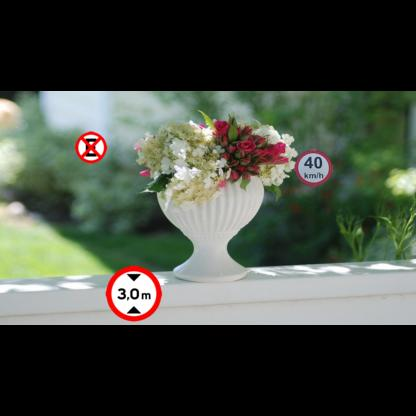R-15: (106, 266, 162, 321)
R-19: (294, 150, 332, 186)
R-6c: (75, 132, 107, 164)
